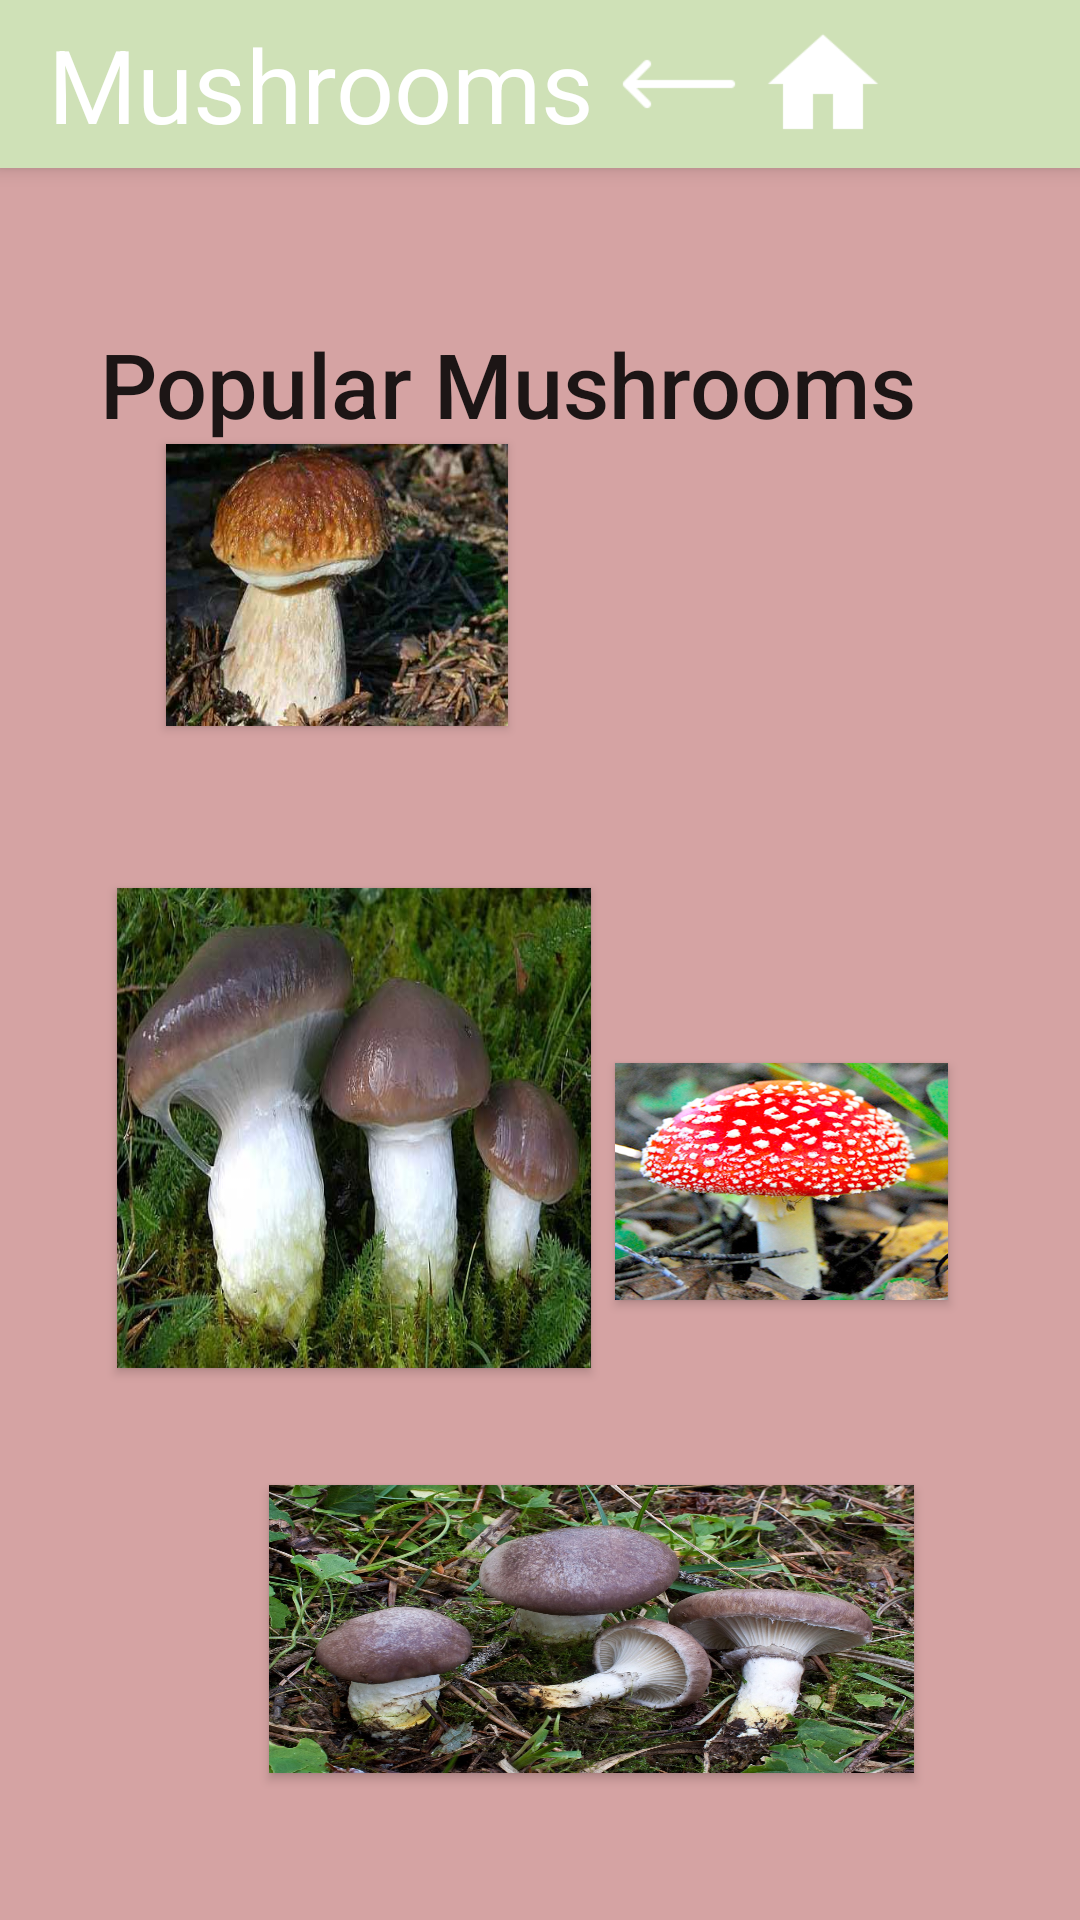

Screen size 1080w x 1920h. Icon name, then its center in pixels as (x=x, y=y):
belyiy grib elovyiy: (x=337, y=585)
fli killer: (x=781, y=1181)
home: (x=823, y=82)
long arrow left: (x=679, y=84)
